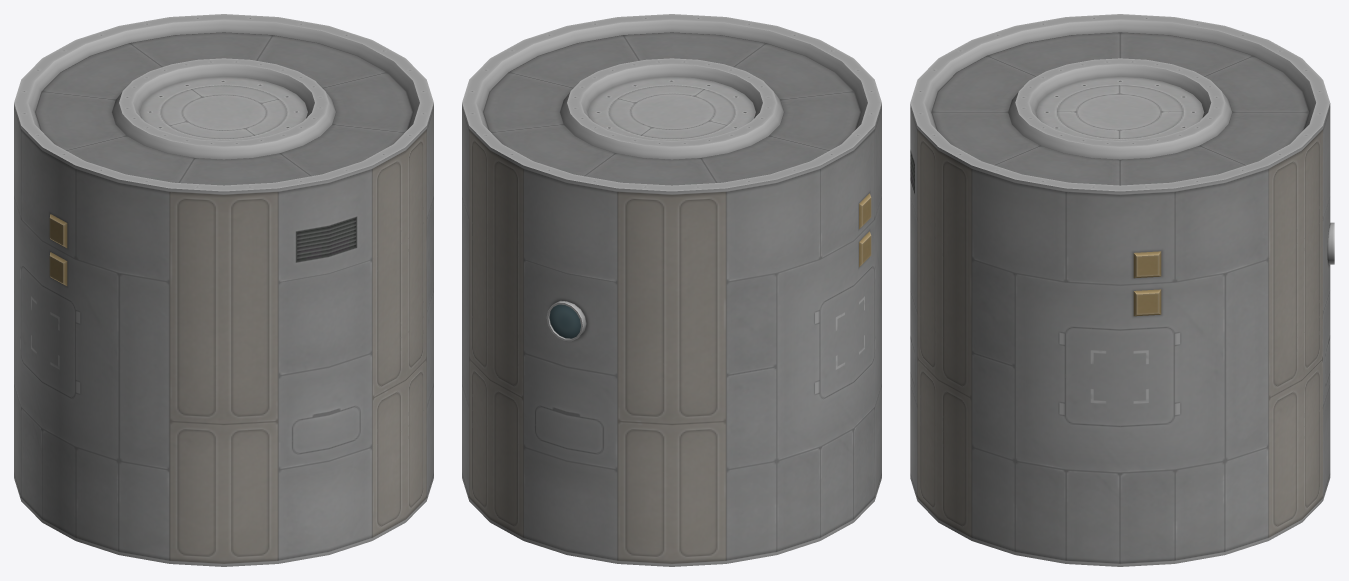
Rendered from Alniyat_Crew_2_1.obj.
3 renders of one model, left to right at view 1: azimuth 30°, elevation 25°; view 2: azimuth 150°, elevation 25°; view 3: azimuth 270°, elevation 25°, orthographic.
Visible parts, largest first — view 1: Alniyat_Crew_2_1; view 2: Alniyat_Crew_2_1, Alniyat_Crew_2_1_Window; view 3: Alniyat_Crew_2_1.
Part boxes in pixels (x1,y1,x2,y2): Alniyat_Crew_2_1: [14, 14, 433, 566]; Alniyat_Crew_2_1: [462, 14, 881, 566]; Alniyat_Crew_2_1_Window: [549, 304, 580, 338]; Alniyat_Crew_2_1: [910, 14, 1334, 566].
Bounding box in the file's own units: 1.88 × 1.85 × 1.89.
